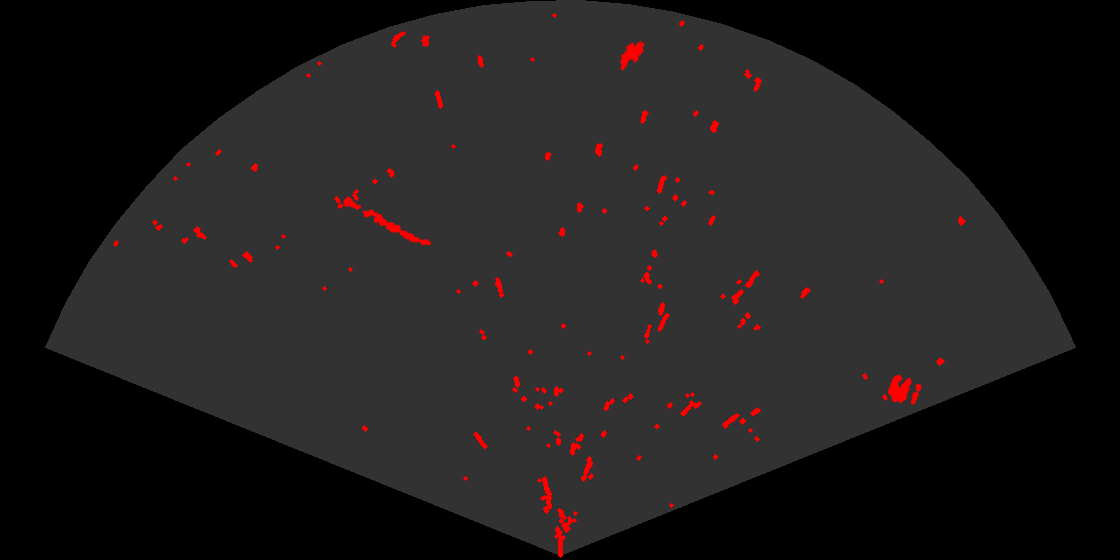AUV: (618, 39, 646, 72)
ball: (886, 373, 923, 407)
chain: (342, 195, 432, 247)
